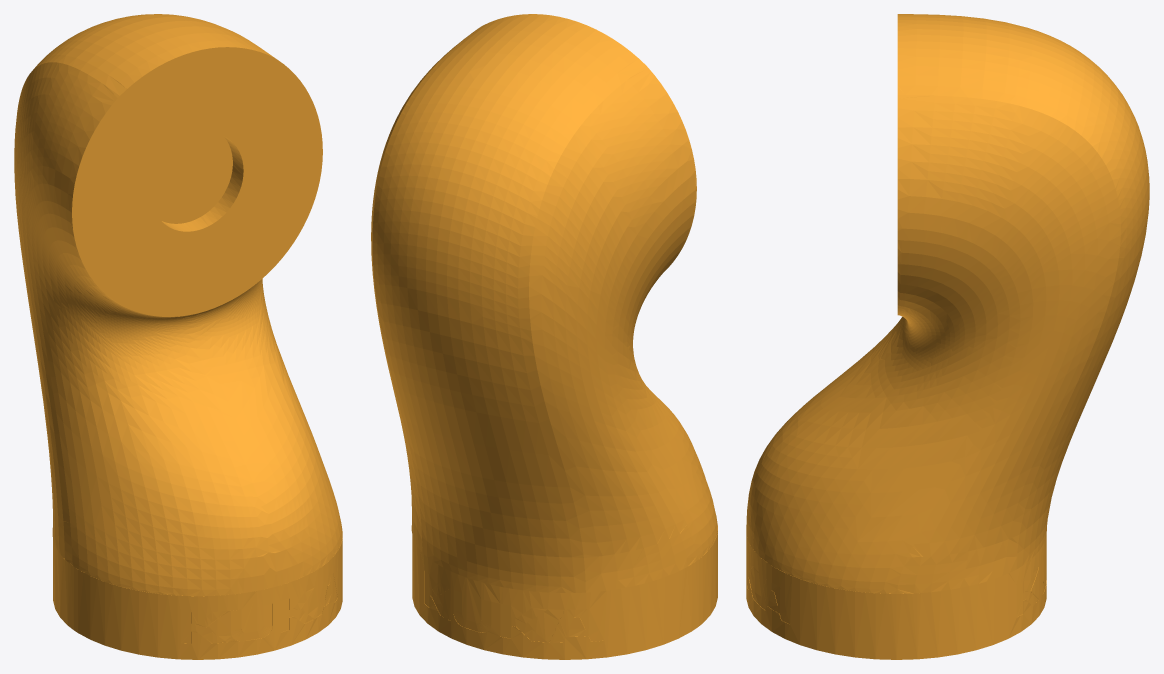
Rendered from link_3_bright.dae.
3 views of the same model, side by side, from view 1: azimuth 30°, elevation 25°; view 2: azimuth 150°, elevation 25°; view 3: azimuth 270°, elevation 25° (orthographic). The views are drawn at different scales.
Visible parts, largest first — view 1: Link 3; view 2: Link 3; view 3: Link 3.
Boxes of the visible parts, bbox=[...] form: Link 3: bbox=[14, 14, 342, 659]; Link 3: bbox=[371, 14, 717, 659]; Link 3: bbox=[746, 14, 1149, 659].
Size of the model in its own units: 0.136 by 0.1826 by 0.2935.
